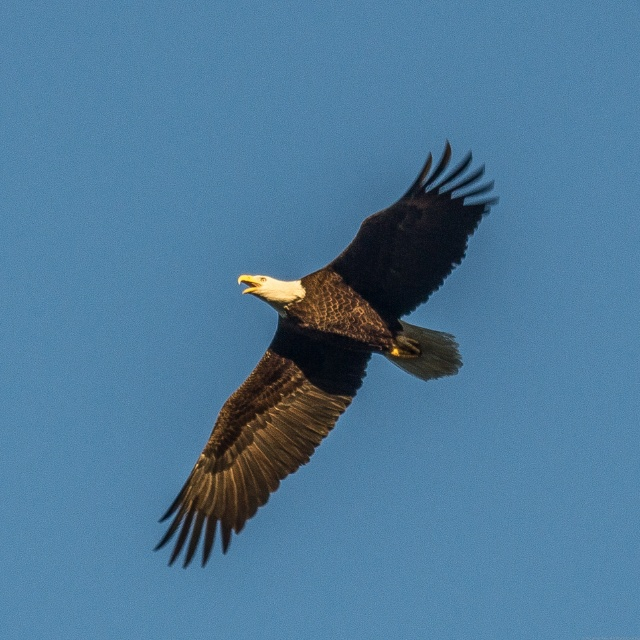Eagle: (154, 140, 499, 570)
